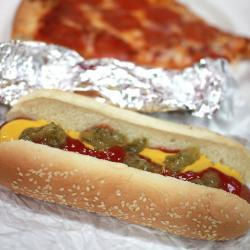hotdog: (4, 88, 250, 247)
